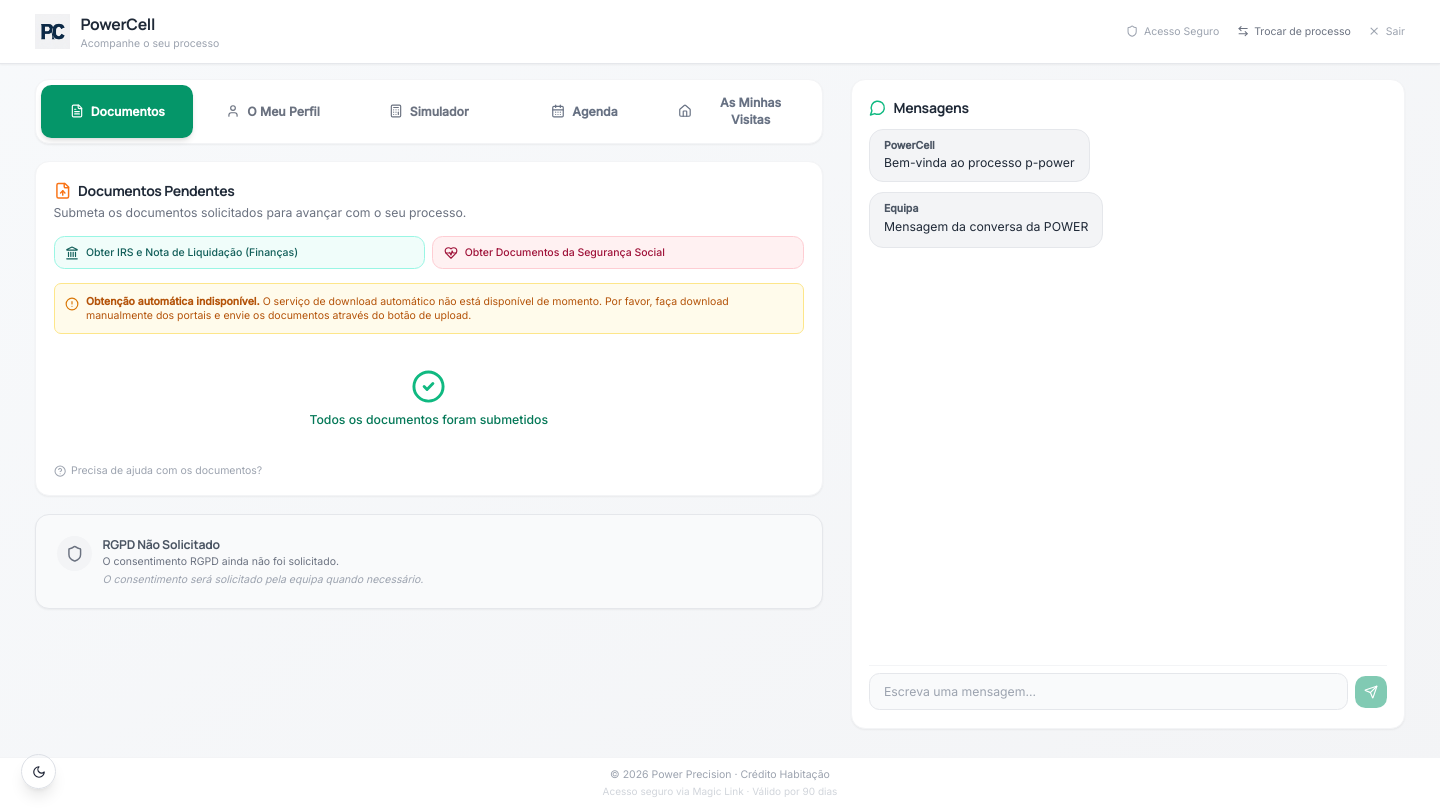
Scenario: trocar de processo › nada do processo anterior atravessa: a conversa é a do novo
The width and height of the screenshot is (1440, 810).
(page scrolled)
Expected: the text "Mensagem da conversa da POWER" is shown, [884,218,1088,235]
Step 1. Click the button with test id "portal-trocar-de-processo" → (1294, 32), box [1237,24,1351,38]
(page scrolled)
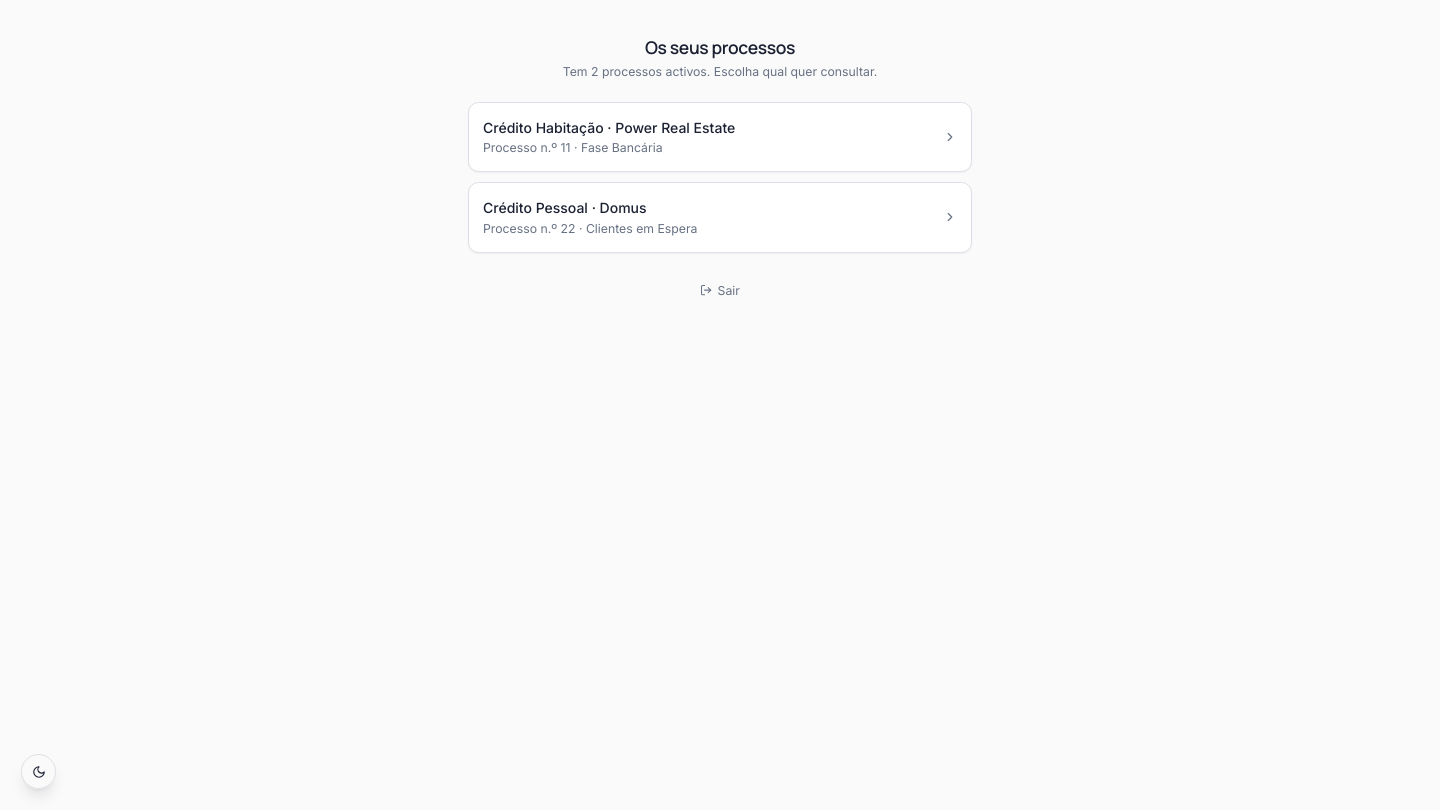
Step 2. Click the button "Crédito Pessoal · Domus Processo n.º 22 · Clientes em Espera" → (565, 208), box [468,182,972,253]
(page scrolled)
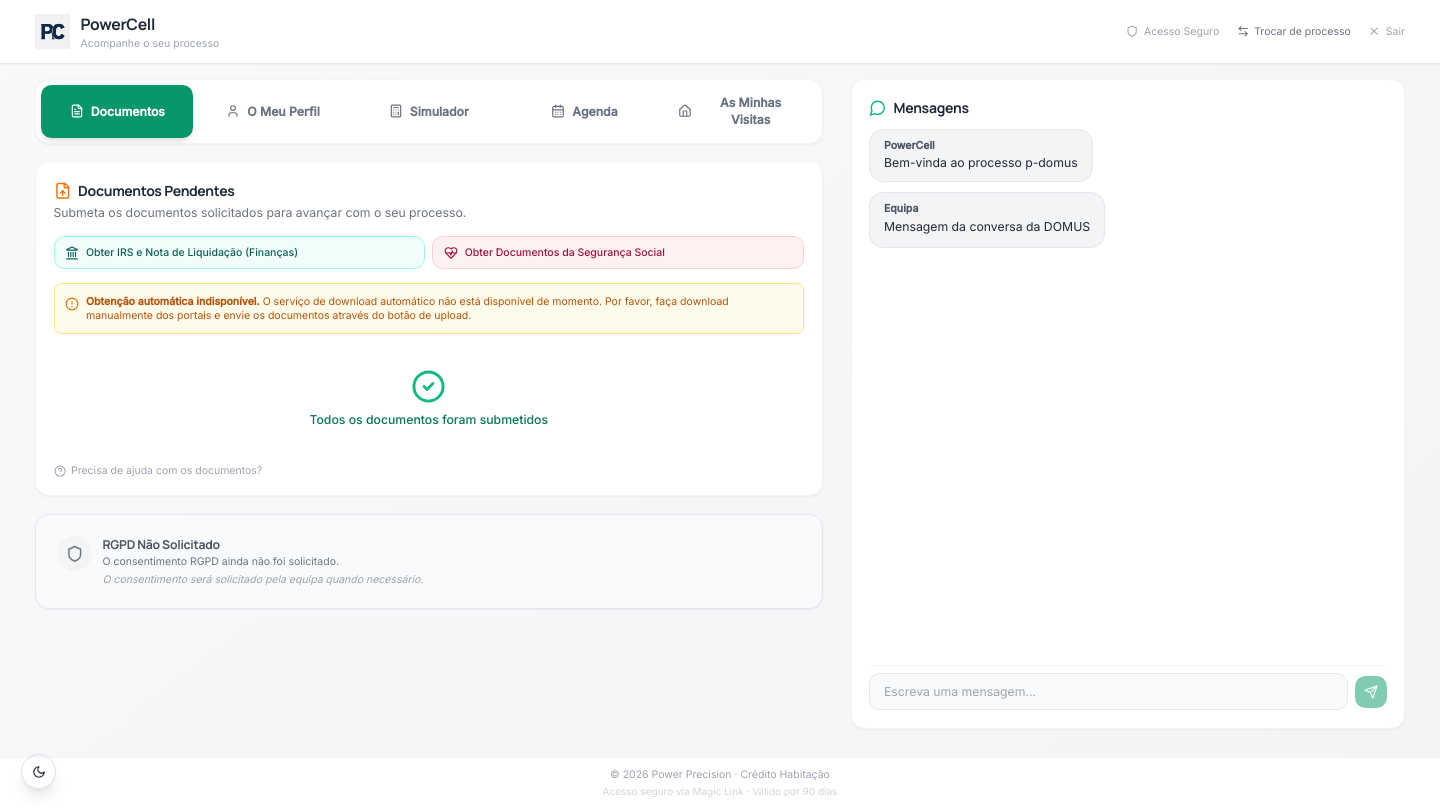
Expected: the text "Mensagem da conversa da POWER" is not shown
Now the text "Mensagem da conversa da DOMUS" is shown, box [884,218,1090,235]
